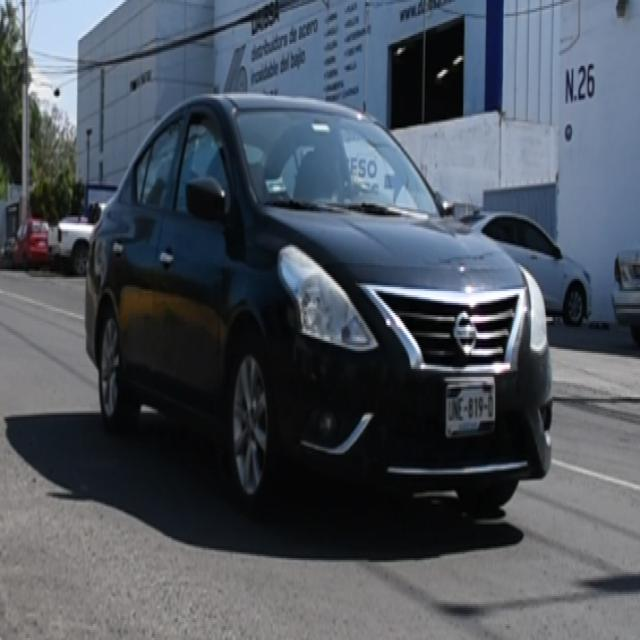placa: (446, 393, 496, 424)
